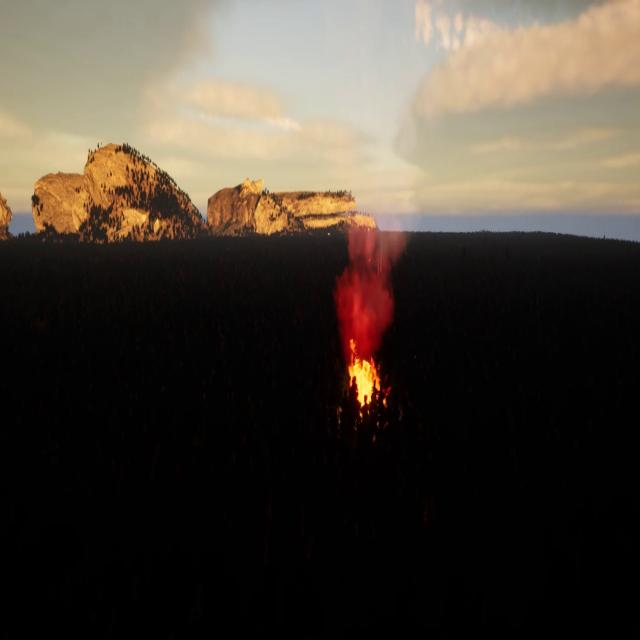fire: (344, 349, 387, 415)
smoke: (338, 214, 404, 351)
